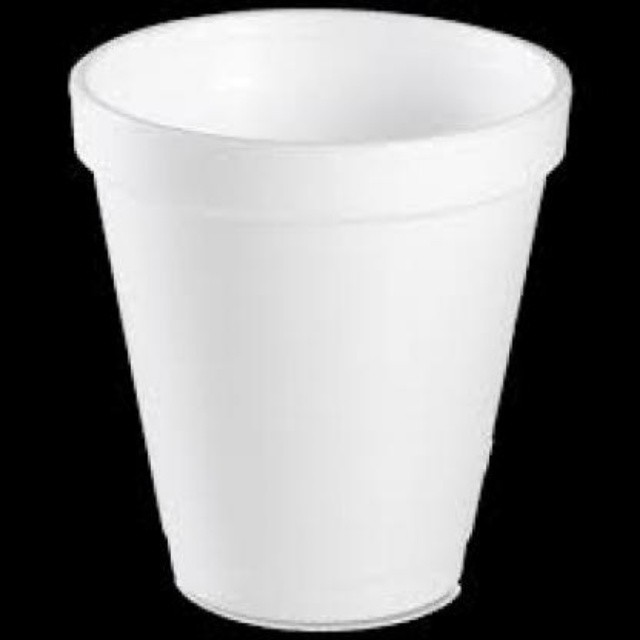trash: (71, 9, 571, 629)
